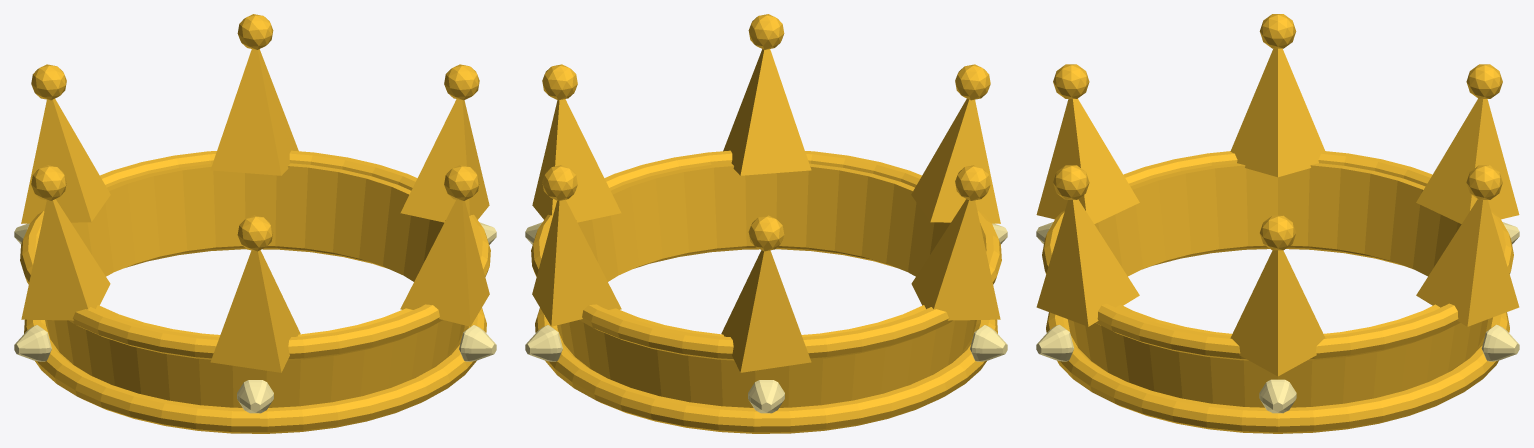
Rendered from Crown.fbx.
The picture shows the model from 3 angles, left to right: view 1: azimuth 30°, elevation 25°; view 2: azimuth 150°, elevation 25°; view 3: azimuth 270°, elevation 25°; orthographic projection.
Parts seen in each view (by area): view 1: Crown_Gold, Crown_Crystal; view 2: Crown_Gold, Crown_Crystal; view 3: Crown_Gold, Crown_Crystal.
Part boxes in pixels (x1,y1,x2,y2): Crown_Gold: [20, 14, 490, 433]; Crown_Crystal: [14, 222, 496, 413]; Crown_Gold: [531, 14, 1001, 433]; Crown_Crystal: [525, 222, 1007, 413]; Crown_Gold: [1036, 14, 1519, 433]; Crown_Crystal: [1036, 222, 1519, 413].
Size of the model in its own units: 212 by 94.76 by 185.
